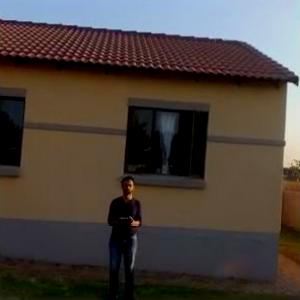follow: (101, 170, 144, 299)
